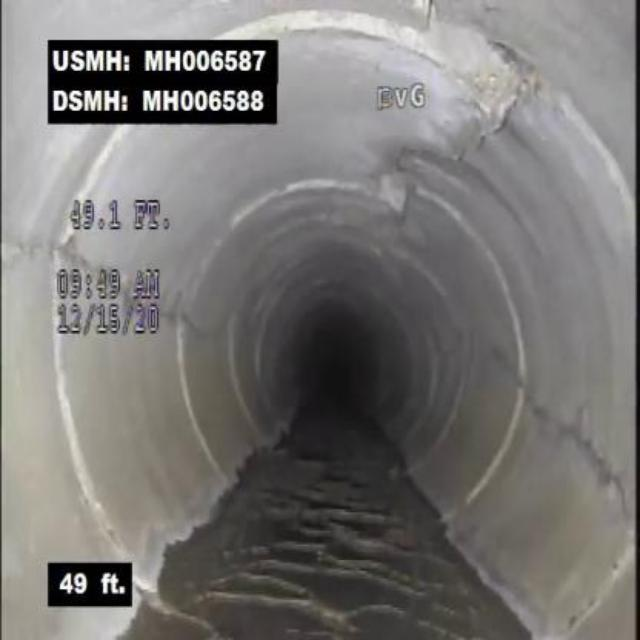Buckling: (408, 12, 568, 172)
